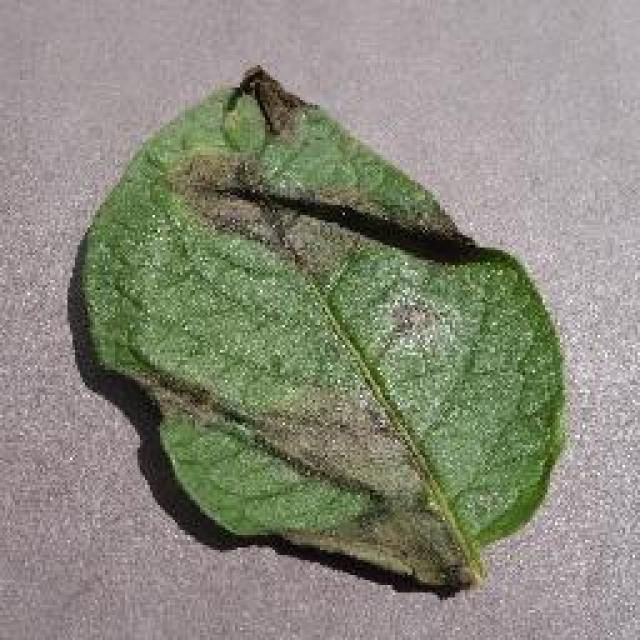Potato: (68, 63, 568, 595)
